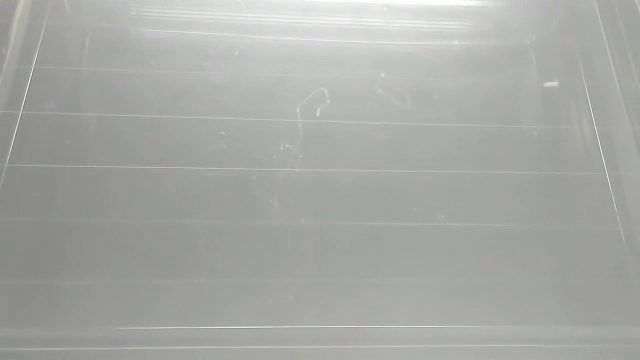alpha: (541, 77, 561, 90)
